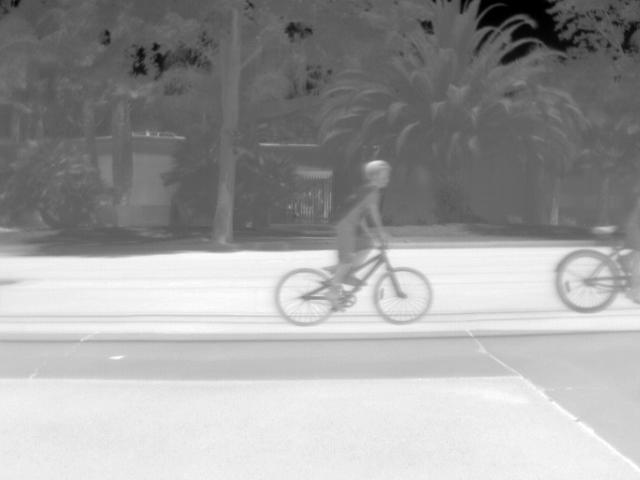person: (333, 157, 397, 287)
